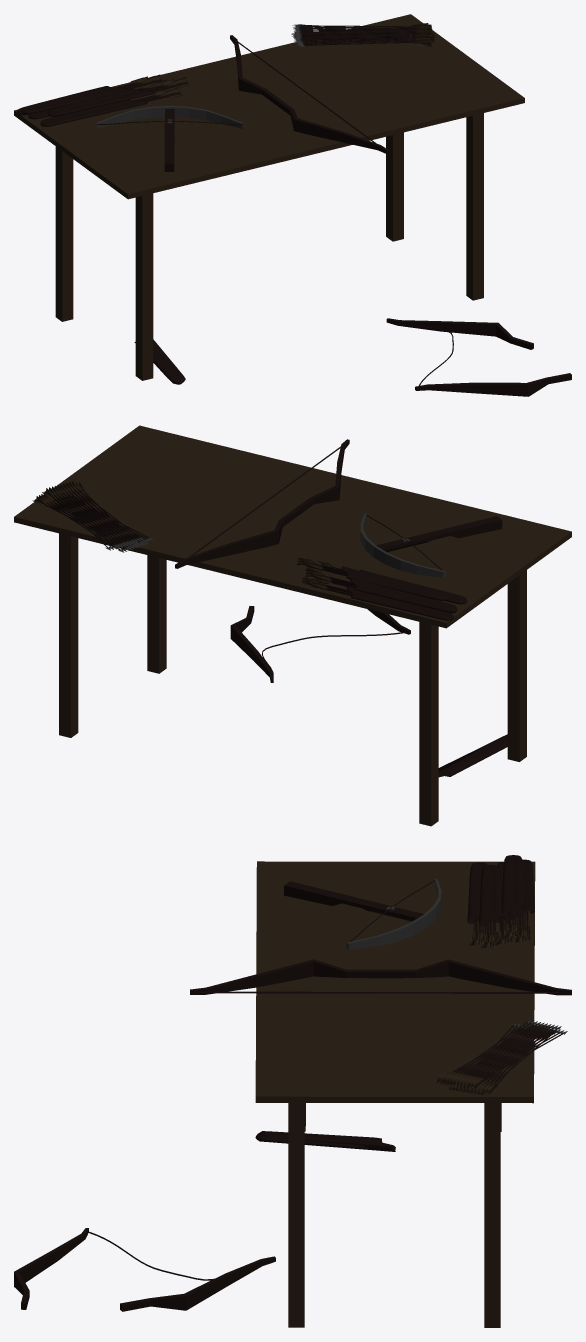
Rendered from SD2wr_table_1_drf.fbx.
3 views of the same model, one above another, from view 1: azimuth 30°, elevation 25°; view 2: azimuth 150°, elevation 25°; view 3: azimuth 270°, elevation 25° (orthographic). The views are drawn at different scales.
Visible parts, largest first — view 1: SD2wr_table_1_drf; view 2: SD2wr_table_1_drf; view 3: SD2wr_table_1_drf.
Boxes of the visible parts, left/top/right/bottom form: SD2wr_table_1_drf: left=14, top=14, right=571, bottom=396; SD2wr_table_1_drf: left=14, top=425, right=571, bottom=826; SD2wr_table_1_drf: left=14, top=855, right=571, bottom=1327.
Size of the model in its own units: 201 by 200 by 104.
